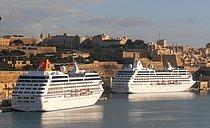Ship: (10, 65, 107, 114), (110, 59, 198, 98)
